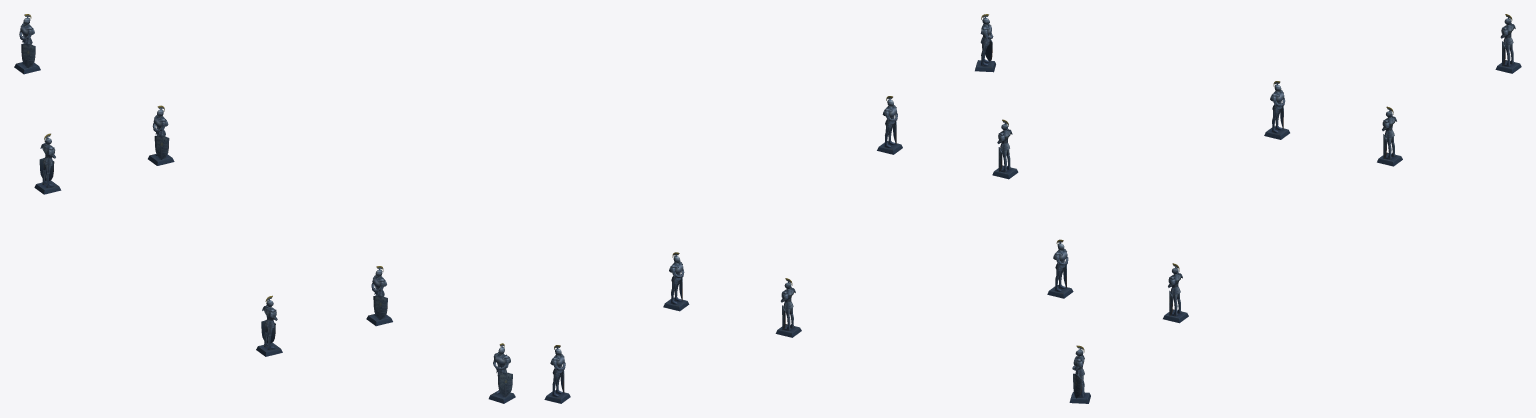
Rendered from wujian04.fbx.
3 views of the same model, side by side, from view 1: azimuth 30°, elevation 25°; view 2: azimuth 150°, elevation 25°; view 3: azimuth 330°, elevation 25° (orthographic). The views are drawn at different scales.
Parts seen in each view (by area): view 1: wujian04; view 2: wujian04; view 3: wujian04.
Boxes of the visible parts, box(x1,y1,x2,y2) form: wujian04: box(14, 14, 515, 403); wujian04: box(544, 14, 1018, 403); wujian04: box(1047, 14, 1521, 403).
Size of the model in its own units: 1599 by 573 by 8841.
Materials: 1 (1 with a texture image).
